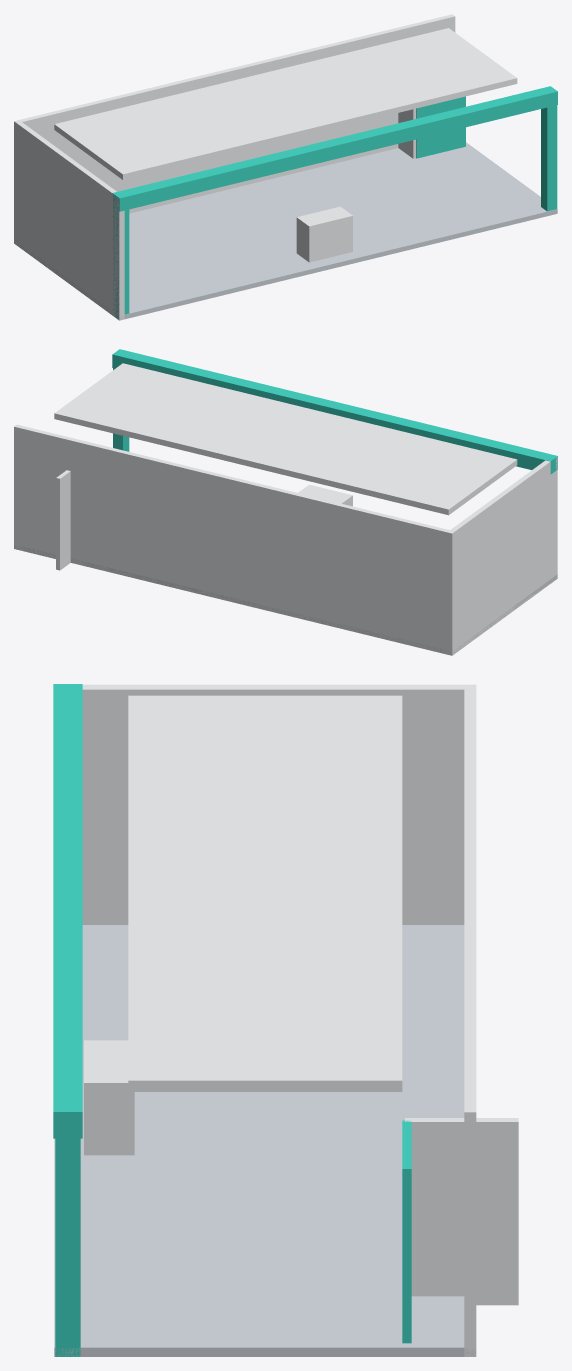
The picture shows the model from 3 angles, top to bottom: view 1: azimuth 30°, elevation 25°; view 2: azimuth 150°, elevation 25°; view 3: azimuth 270°, elevation 25°; orthographic projection. The views are drawn at different scales.
Parts seen in each view (by area): view 1: Exhibition Booth Concept; view 2: Exhibition Booth Concept; view 3: Exhibition Booth Concept.
Boxes of the visible parts, x1,y1,x2,y2 form: Exhibition Booth Concept: (14, 14, 557, 320); Exhibition Booth Concept: (14, 349, 557, 655); Exhibition Booth Concept: (53, 684, 518, 1356).
Bounding box in the file's own units: 12 × 3.34 × 5.52.
